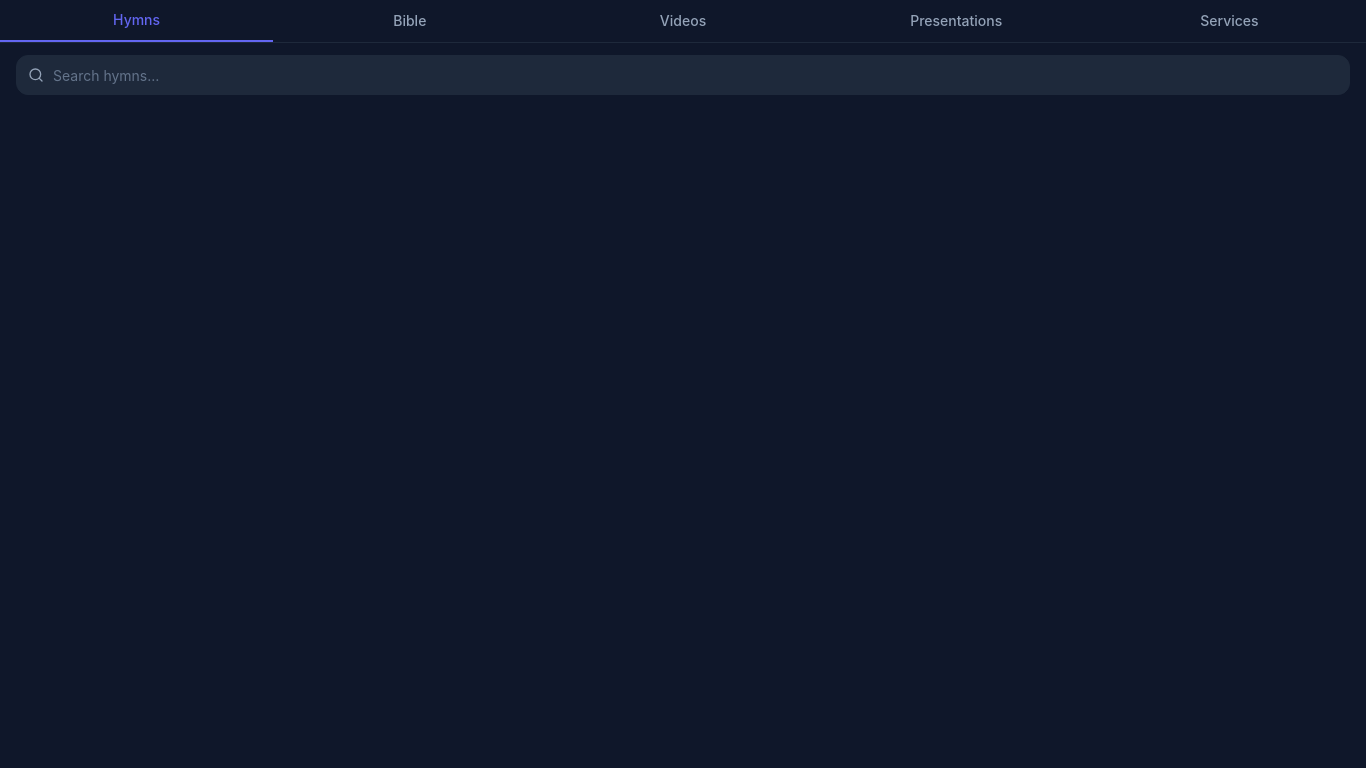
Test: SearchRoute — G3 (debounce 120 ms) › services tab opens action sheet on tap (no multi-select)
Step 1. Click the tab "Services" → (1229, 21), box 1093,0 -> 1365,42
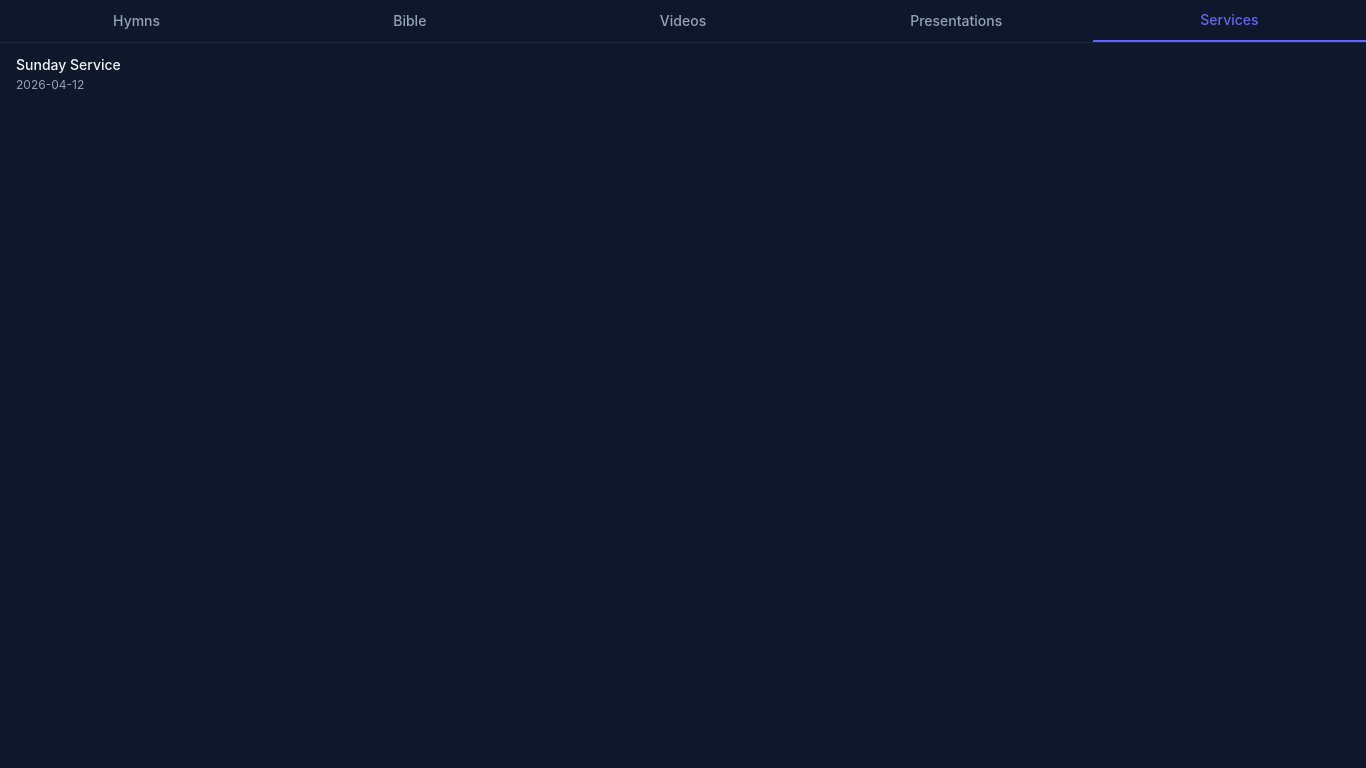
Step 2. Click the text "Sunday Service" → (68, 64), box 16,56 -> 121,73
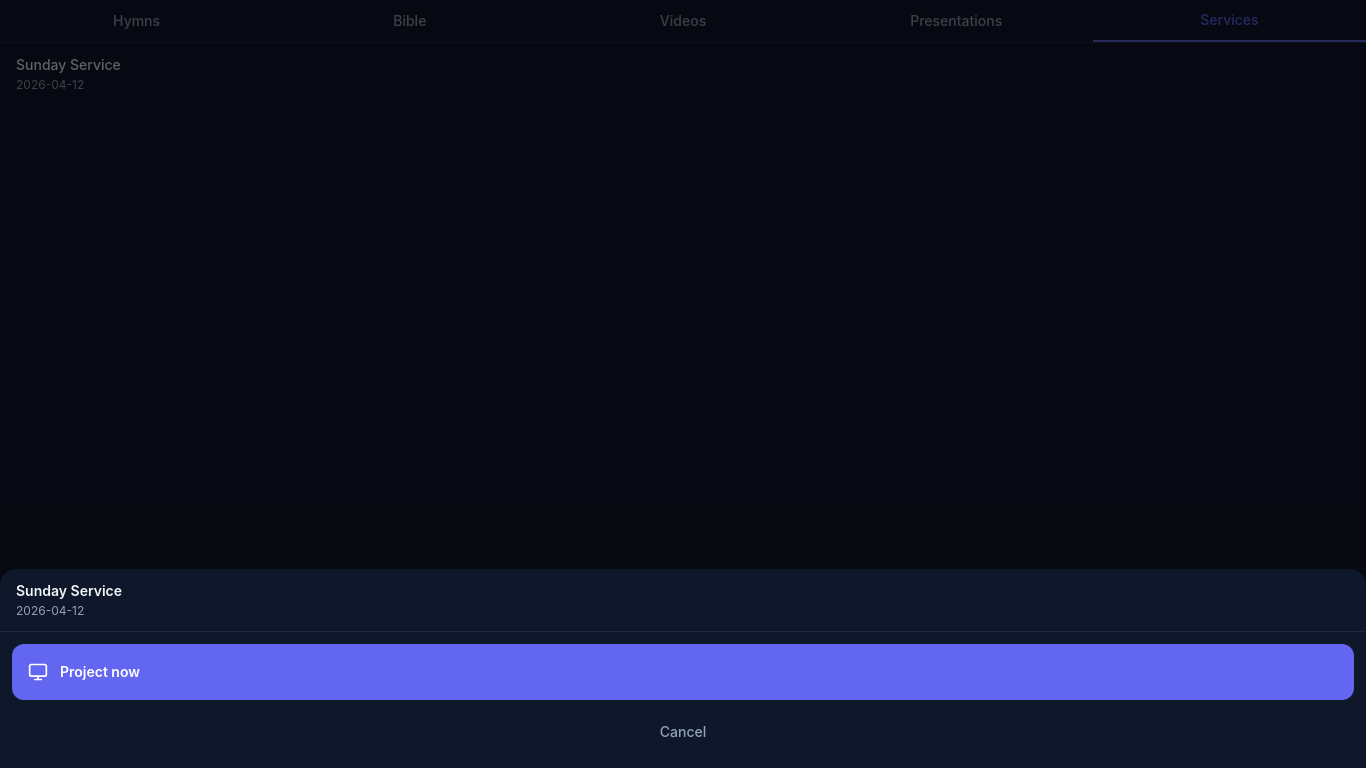
Check: the dialog is shown
